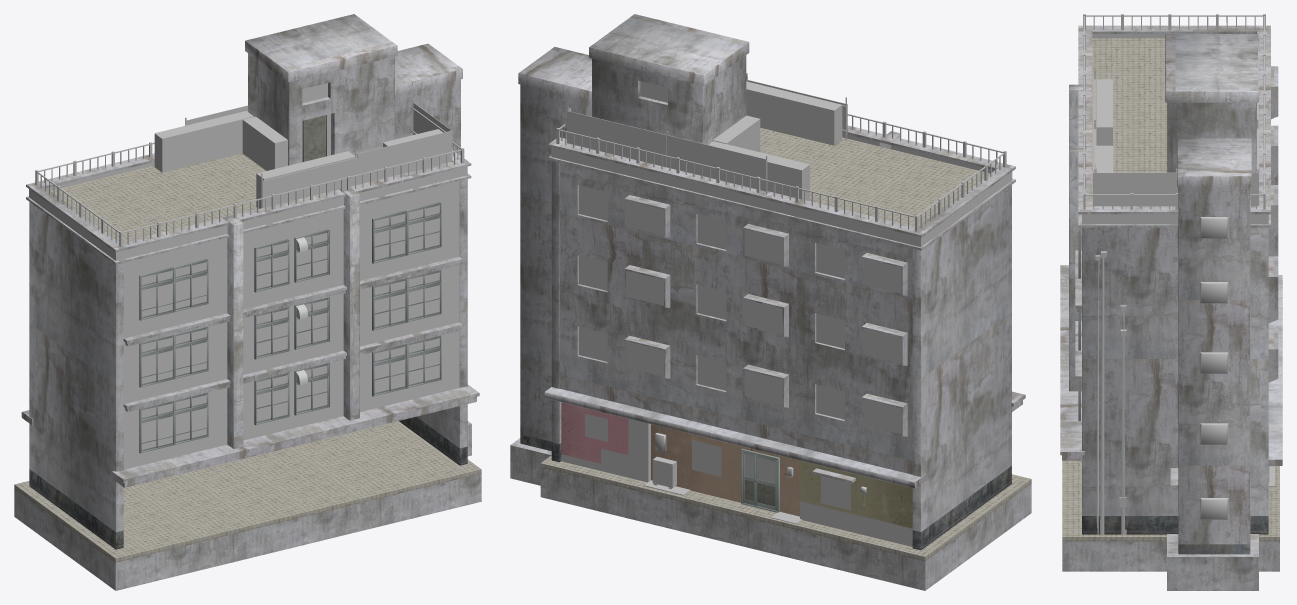
File: mallbil_3x4_2_in.fbx
The picture shows the model from 3 angles, left to right: view 1: azimuth 30°, elevation 25°; view 2: azimuth 150°, elevation 25°; view 3: azimuth 270°, elevation 25°; orthographic projection. The views are drawn at different scales.
Parts seen in each view (by area): view 1: mallbil_3x4_2_In; view 2: mallbil_3x4_2_In; view 3: mallbil_3x4_2_In.
Boxes of the visible parts, x1,y1,x2,y2 form: mallbil_3x4_2_In: [14, 14, 481, 590]; mallbil_3x4_2_In: [510, 14, 1031, 590]; mallbil_3x4_2_In: [1060, 14, 1282, 590].
Size of the model in its own units: 2044 by 2074 by 905.
